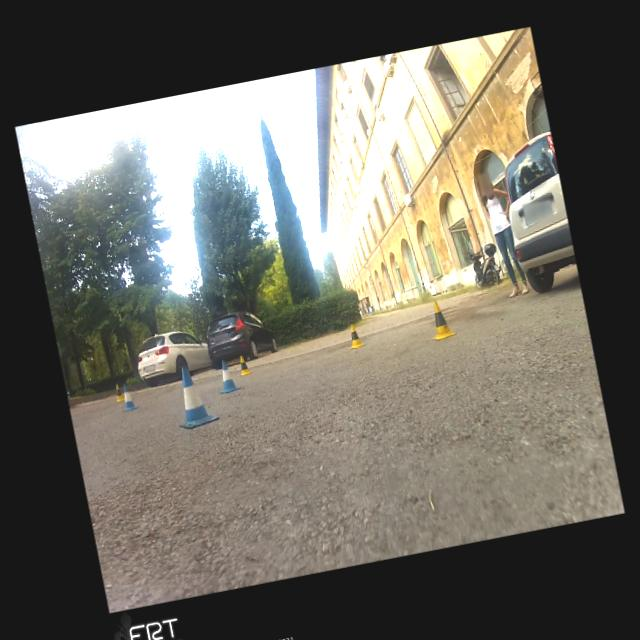blue_cone: (168, 361, 220, 431), (214, 357, 242, 394), (119, 383, 139, 412)
yellow_cone: (425, 298, 457, 341), (346, 322, 366, 349), (236, 354, 252, 376), (112, 382, 126, 402)
